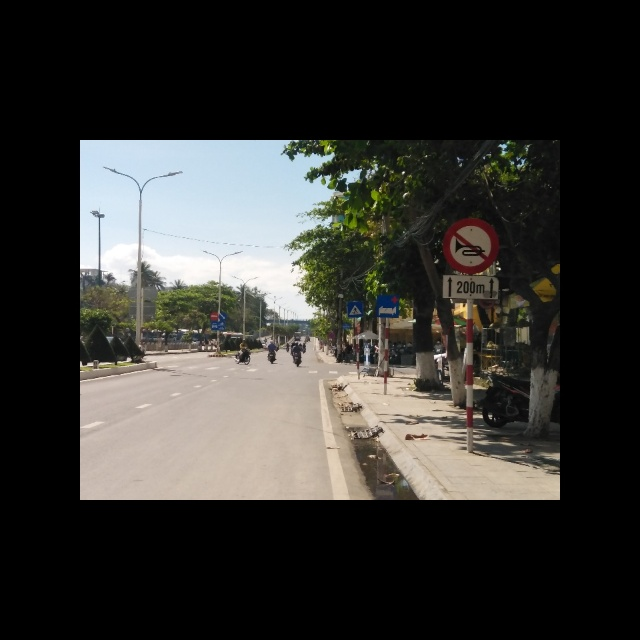Bệnh viện: (375, 294, 400, 319)
Cấm bấm còi: (442, 218, 499, 273)
Đường dành cho người đi bộ: (346, 301, 362, 318)
